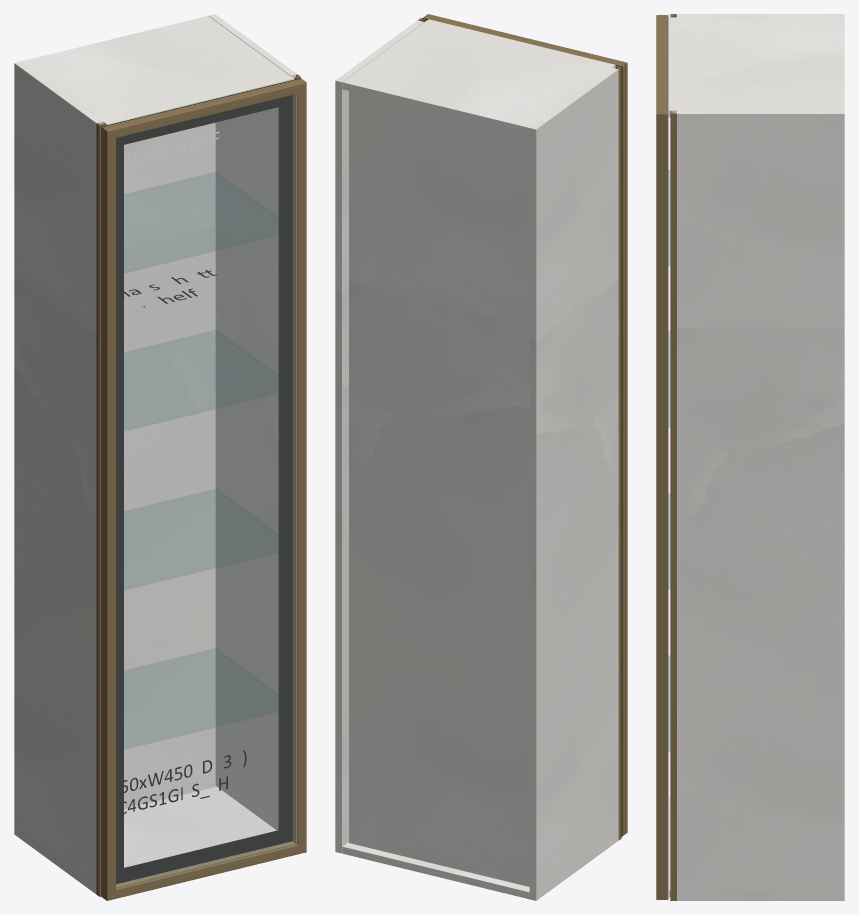
The model's file is MDW-SH-NHX-GL-4SG-LHS-XXX-450-1650-336-15.glb.
The picture shows the model from 3 angles, left to right: view 1: azimuth 30°, elevation 25°; view 2: azimuth 150°, elevation 25°; view 3: azimuth 270°, elevation 25°; orthographic projection. The views are drawn at different scales.
Parts seen in each view (by area): view 1: Object_node_13, TP_node_0, TP_node_2, TP_node_1, Neon 22 Profile ALU PROF NEON 20 L21XH22.5MM 3MTR S2/405 SEC (×4), Object_node_15, TP, TP_node, Object_node_17, 2D text_node; view 2: TP_node_2, TP_node_0, TP, TP_node_1, Neon 22 Profile ALU PROF NEON 20 L21XH22.5MM 3MTR S2/405 SEC (×2), Object_node_17, TP_node, Object_node_15; view 3: TP_node_1, TP, Neon 22 Profile ALU PROF NEON 20 L21XH22.5MM 3MTR S2/405 SEC (×2), Object_node_23, Object_node_15, TP_node_0.
Part boxes in pixels (box(x1,y1,x2,y2)): Object_node_13: box(116, 94, 297, 888); TP_node_0: box(14, 61, 103, 893); TP_node_2: box(124, 122, 215, 808); TP_node_1: box(209, 14, 296, 830); Neon 22 Profile ALU PROF NEON 20 L21XH22.5MM 3MTR S2/405 SEC (×4): box(101, 78, 306, 900); Object_node_15: box(101, 78, 300, 896); TP: box(21, 16, 294, 125); TP_node: box(124, 786, 276, 867); Object_node_17: box(96, 123, 104, 896); 2D text_node: box(124, 750, 246, 792); TP_node_2: box(349, 91, 529, 886); TP_node_0: box(529, 68, 618, 900); TP: box(342, 19, 615, 134); TP_node_1: box(335, 20, 423, 853); Neon 22 Profile ALU PROF NEON 20 L21XH22.5MM 3MTR S2/405 SEC (×2): box(423, 14, 627, 836); Object_node_17: box(615, 66, 621, 840); TP_node: box(342, 842, 529, 899); Object_node_15: box(422, 18, 622, 836); TP_node_1: box(676, 110, 844, 900); TP: box(669, 17, 844, 117); Neon 22 Profile ALU PROF NEON 20 L21XH22.5MM 3MTR S2/405 SEC (×2): box(656, 15, 667, 899); Object_node_23: box(670, 111, 676, 900); Object_node_15: box(668, 15, 668, 899); TP_node_0: box(676, 14, 844, 17).
Size of what is drawn, in the model's own units: 0.4501 by 1.65 by 0.358.
Materials: 7 (1 with a texture image).
